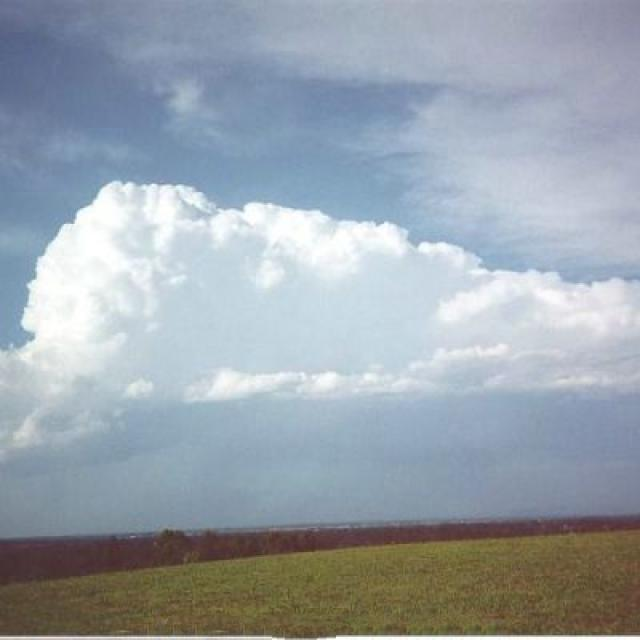Cs: (1, 82, 640, 445)
